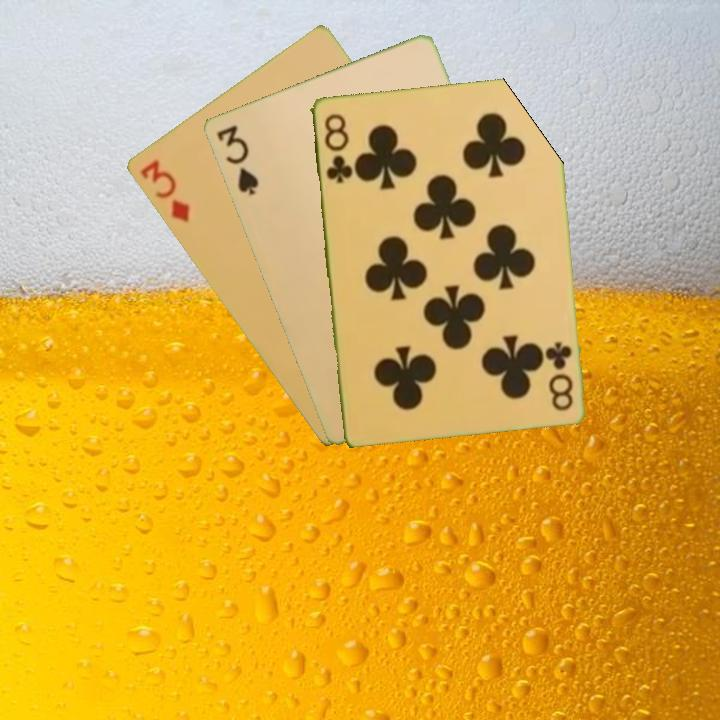3d: (136, 156, 192, 225)
3s: (212, 121, 261, 198)
8c: (320, 109, 354, 186), (544, 337, 576, 413)
